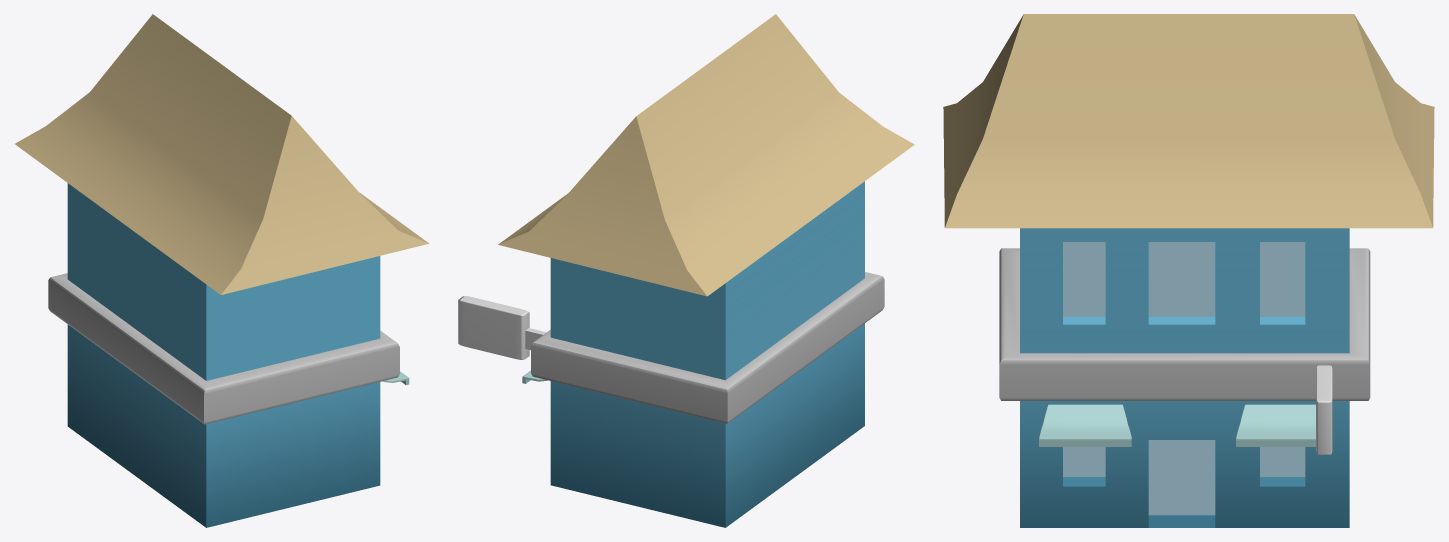
Rendered from BuildingShort_02.fbx.
3 renders of one model, left to right at view 1: azimuth 30°, elevation 25°; view 2: azimuth 150°, elevation 25°; view 3: azimuth 270°, elevation 25°, orthographic. The views are drawn at different scales.
Parts seen in each view (by area): view 1: polySurface796; view 2: polySurface796; view 3: polySurface796.
Part boxes in pixels (x1,y1,x2,y2): polySurface796: (15, 14, 428, 527); polySurface796: (458, 14, 914, 527); polySurface796: (943, 14, 1434, 527).
Bounding box in the file's own units: 5.06 × 6.46 × 6.2.
